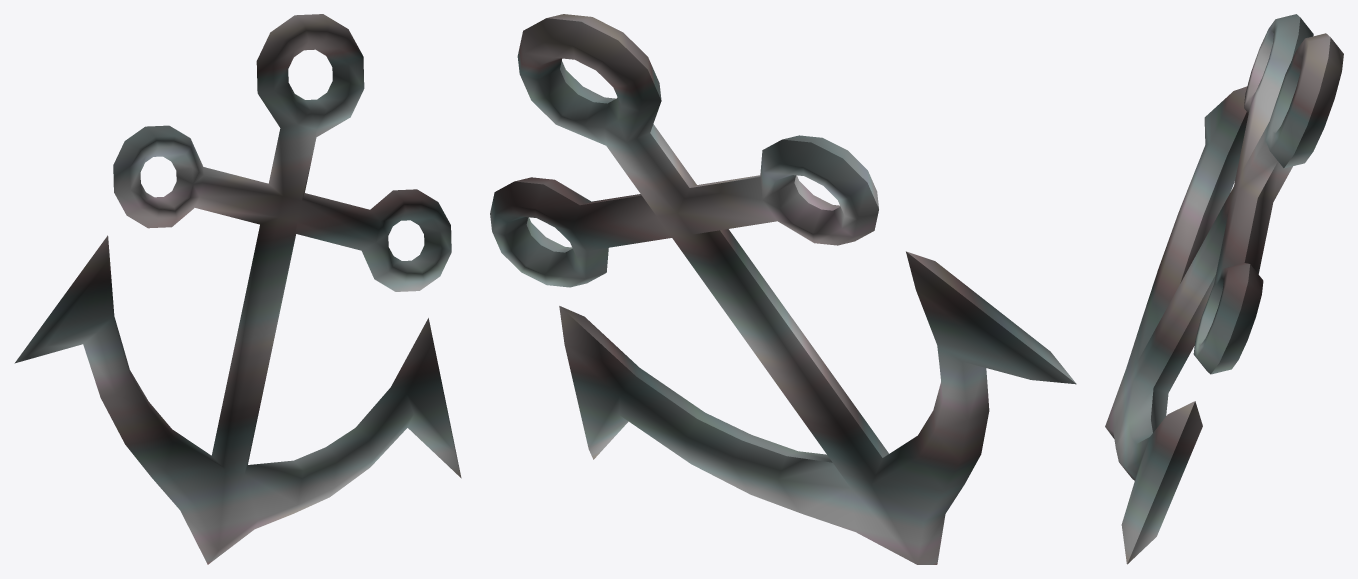
The model's file is slime1.ico.obj.
The picture shows the model from 3 angles, left to right: view 1: azimuth 30°, elevation 25°; view 2: azimuth 150°, elevation 25°; view 3: azimuth 270°, elevation 25°; orthographic projection. The views are drawn at different scales.
Size of the model in its own units: 4.17 by 3.95 by 1.69.
Materials: 1 (1 with a texture image).
